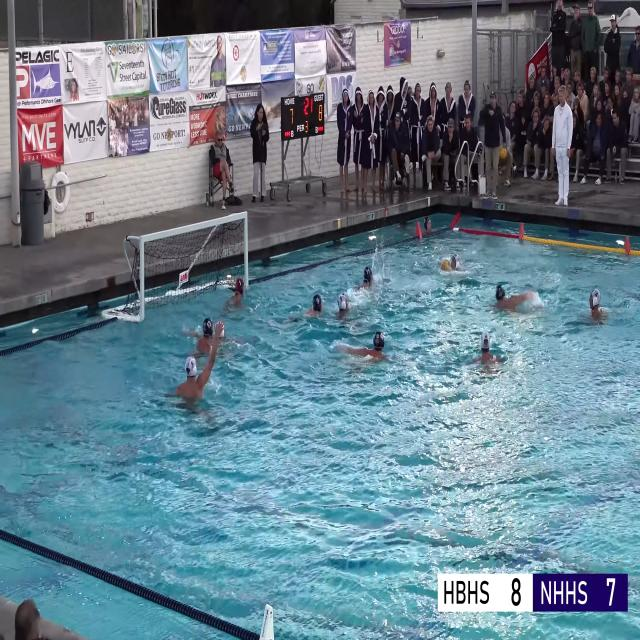ball: (499, 147, 507, 159), (441, 261, 449, 271)
